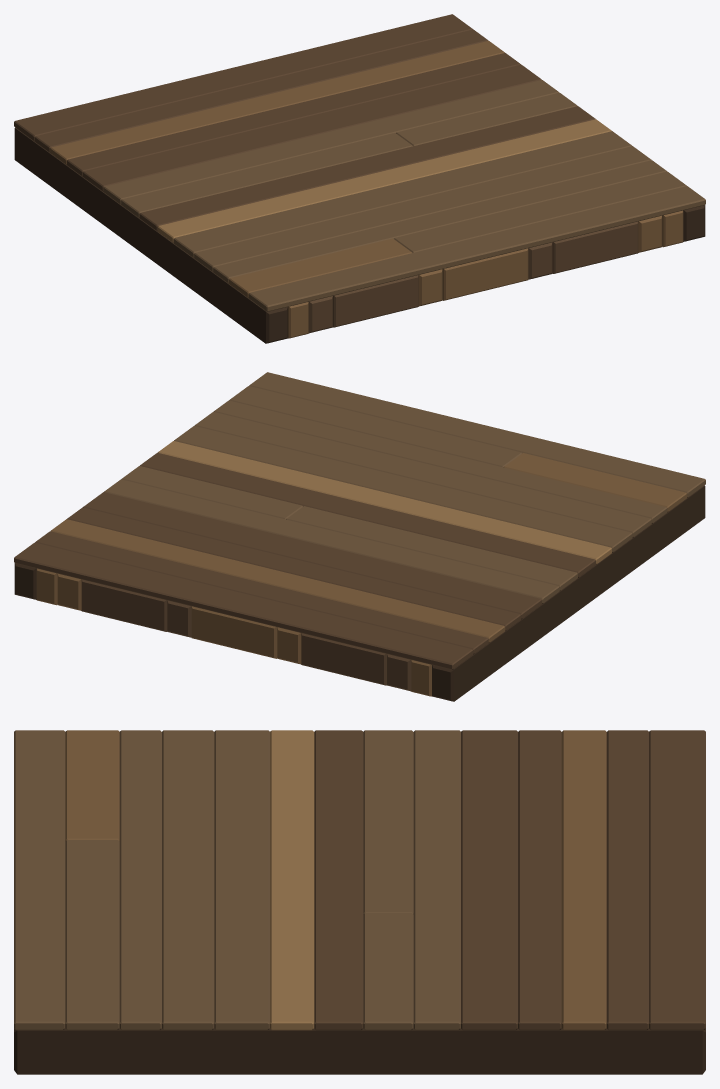
Rendered from SM_LPD_Struct_CeilBeams_01.fbx.
The picture shows the model from 3 angles, top to bottom: view 1: azimuth 30°, elevation 25°; view 2: azimuth 150°, elevation 25°; view 3: azimuth 270°, elevation 25°; orthographic projection. The views are drawn at different scales.
Visible parts, largest first — view 1: SM_LPD_Struct_CeilBeams_01; view 2: SM_LPD_Struct_CeilBeams_01; view 3: SM_LPD_Struct_CeilBeams_01.
Part boxes in pixels (bbox=[...]): SM_LPD_Struct_CeilBeams_01: bbox=[14, 14, 705, 343]; SM_LPD_Struct_CeilBeams_01: bbox=[14, 372, 705, 701]; SM_LPD_Struct_CeilBeams_01: bbox=[14, 730, 705, 1074].
Size of the model in its own units: 4 by 0.335 by 4.
